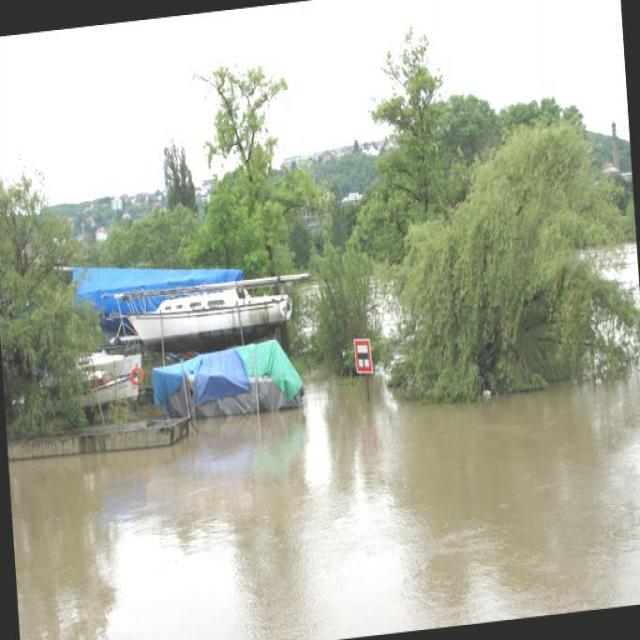flood: (5, 341, 639, 639)
